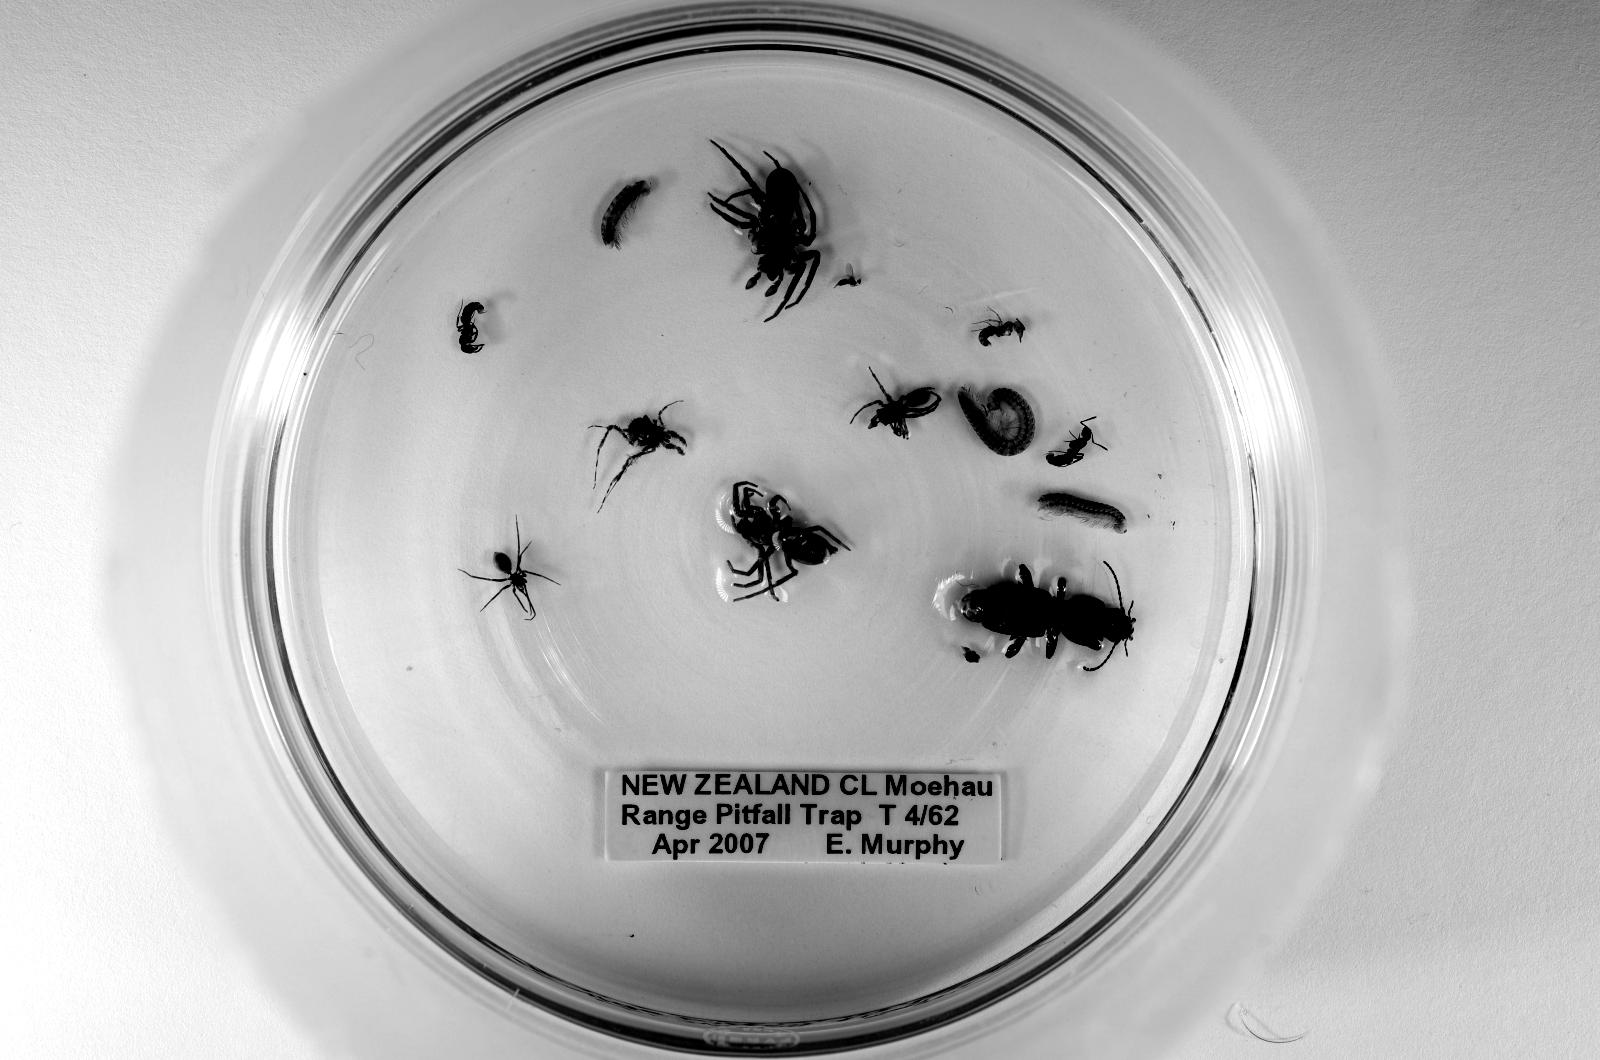araneae: (709, 143, 819, 320), (728, 481, 850, 596), (462, 519, 544, 621), (856, 373, 941, 438)
carabidae: (959, 565, 1134, 658)
diplopoda: (959, 388, 1034, 456), (1038, 494, 1125, 534), (600, 180, 650, 248)
diptera: (834, 264, 862, 286)
formicidae: (1047, 419, 1094, 466), (978, 314, 1025, 348), (456, 301, 484, 354)
opiliones: (603, 410, 684, 500)
